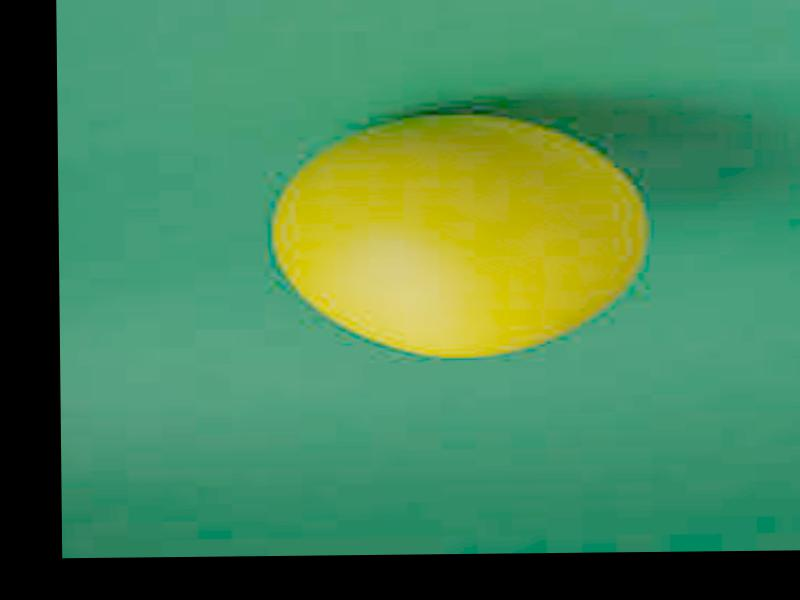Eggs: (266, 110, 636, 361)
